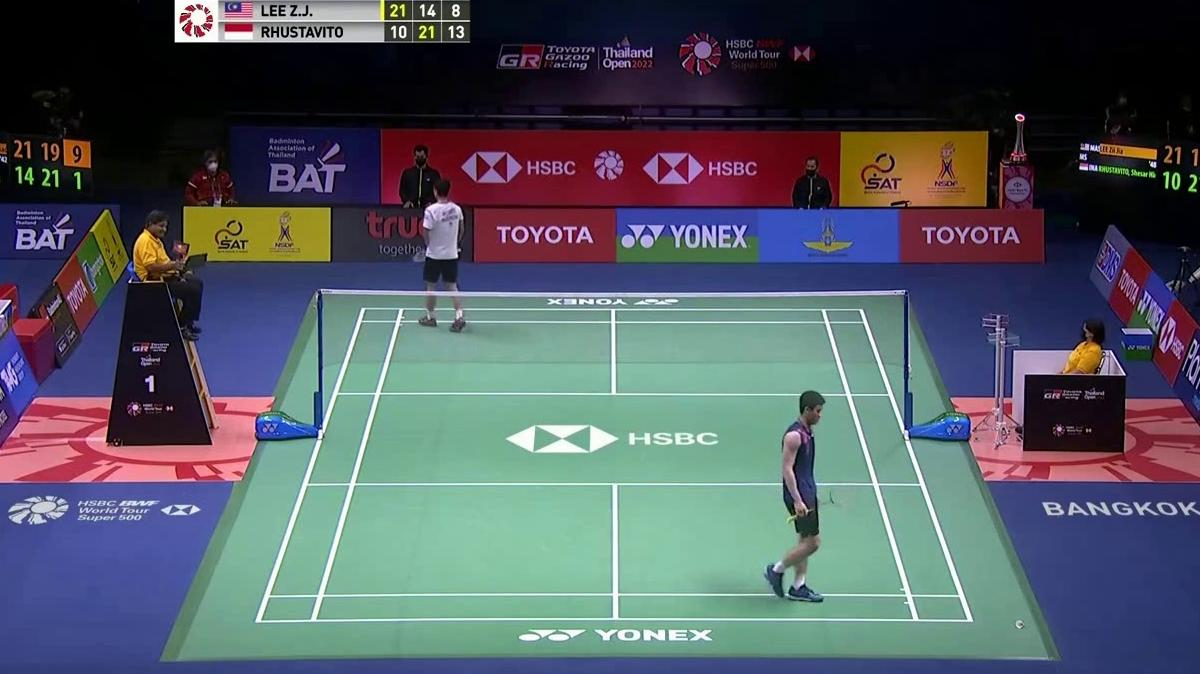racket: (787, 484, 858, 523), (413, 247, 462, 263)
shuttle: (1014, 618, 1025, 630)
